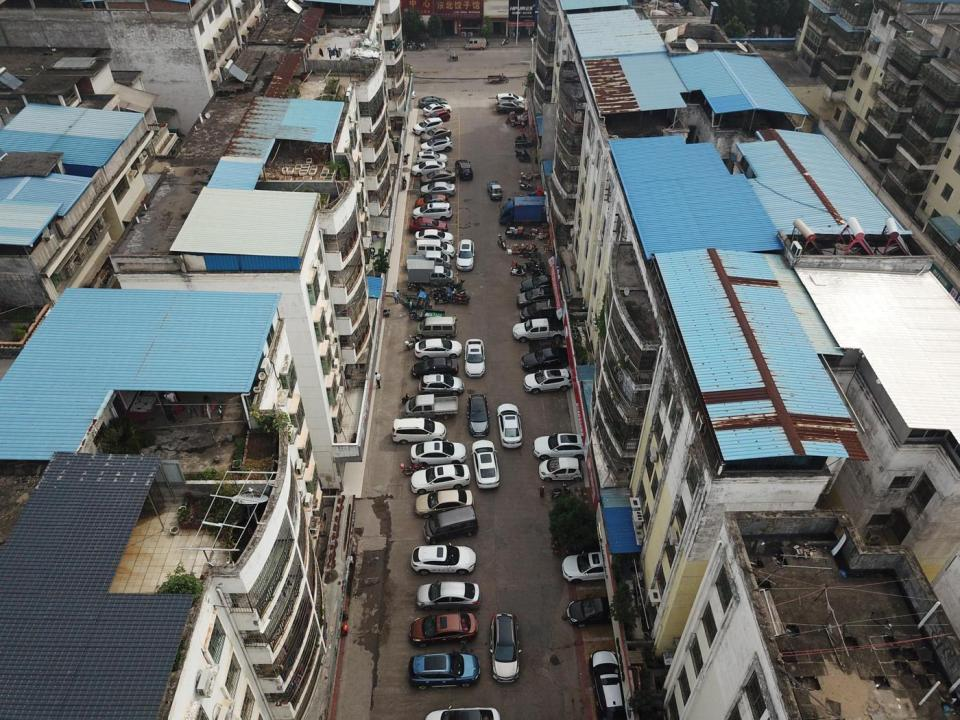car: (408, 651, 480, 690), (589, 649, 627, 720), (409, 612, 478, 647), (560, 552, 631, 584), (411, 544, 476, 576), (490, 612, 519, 682), (566, 597, 634, 626), (416, 581, 480, 610), (410, 464, 469, 493), (414, 489, 473, 518), (533, 433, 598, 459), (471, 440, 499, 490), (411, 441, 466, 466), (520, 347, 574, 372), (522, 368, 572, 394), (497, 404, 523, 448), (538, 457, 584, 481), (423, 707, 501, 720), (418, 374, 464, 396), (467, 394, 490, 437), (410, 358, 458, 378), (415, 339, 462, 359), (464, 339, 486, 378), (519, 276, 564, 294), (413, 202, 452, 221), (416, 239, 456, 257), (415, 229, 454, 246), (420, 169, 456, 186), (420, 181, 456, 198), (456, 239, 475, 271), (410, 218, 449, 233), (421, 136, 453, 154), (411, 160, 446, 176), (414, 194, 451, 209), (412, 118, 444, 135), (420, 127, 452, 144), (416, 150, 448, 165), (496, 99, 526, 114), (455, 159, 473, 180), (399, 462, 426, 476), (423, 103, 452, 116), (425, 109, 451, 123), (418, 96, 447, 108), (495, 93, 525, 104), (524, 86, 544, 98)
truck: (499, 197, 561, 226), (404, 393, 457, 420), (513, 318, 572, 342), (407, 260, 454, 285), (405, 251, 451, 268), (486, 180, 503, 200)
van: (424, 505, 479, 544), (391, 417, 446, 444), (521, 301, 567, 324), (517, 288, 563, 308), (417, 317, 457, 339), (464, 37, 486, 50)
